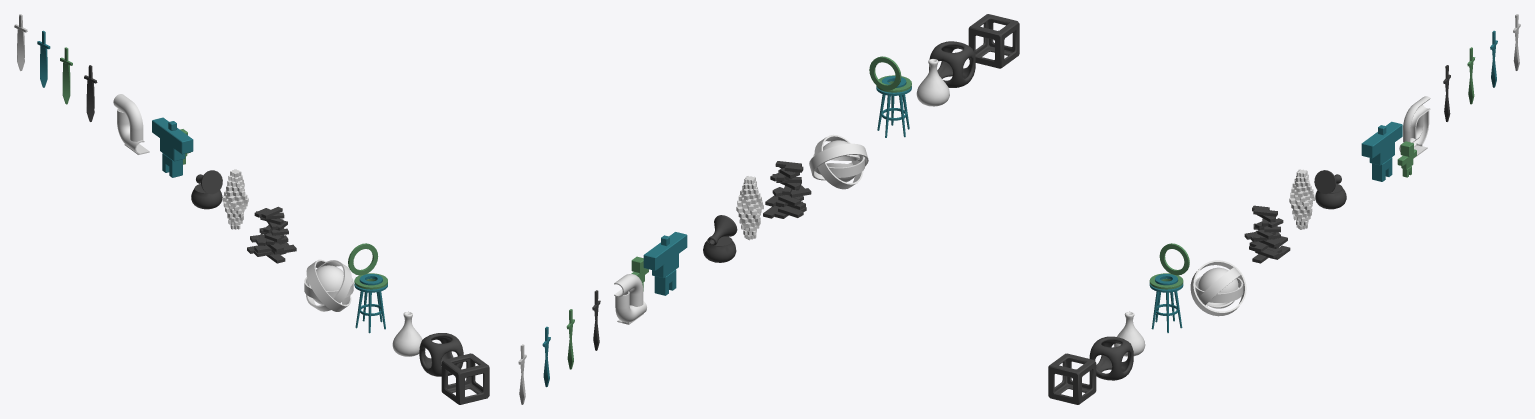
The picture shows the model from 3 angles, left to right: view 1: azimuth 30°, elevation 25°; view 2: azimuth 150°, elevation 25°; view 3: azimuth 330°, elevation 25°; orthographic projection. The views are drawn at different scales.
Visible parts, largest first — view 1: Sphere, Cube, chair_1, Cube_3, man_1, Cube_2, Cylinder_2, Cube_4, Cube_5, Cylinder, knife_2, knife_1; view 2: Sphere, Cube, man_1, Cube_3, chair_1, Cube_2, Cylinder_2, Cube_4, Cube_5, Cylinder; view 3: Sphere, man_1, Cube, Cube_3, chair_1, Cube_2, Cylinder_2, Cube_4, Cube_5, Cylinder.
Part boxes in pixels (bbox=[...]): Sphere: bbox=[304, 259, 353, 311]; Cube: bbox=[441, 353, 489, 404]; chair_1: bbox=[348, 243, 387, 333]; Cube_3: bbox=[247, 206, 296, 263]; man_1: bbox=[152, 117, 193, 177]; Cube_2: bbox=[419, 333, 463, 376]; Cylinder_2: bbox=[113, 94, 149, 154]; Cube_4: bbox=[222, 169, 248, 229]; Cube_5: bbox=[191, 170, 222, 209]; Cylinder: bbox=[392, 311, 422, 356]; knife_2: bbox=[60, 47, 72, 104]; knife_1: bbox=[84, 65, 97, 121]; Sphere: bbox=[809, 134, 868, 189]; Cube: bbox=[968, 14, 1019, 68]; man_1: bbox=[631, 232, 687, 295]; Cube_3: bbox=[763, 161, 811, 218]; chair_1: bbox=[869, 56, 911, 137]; Cube_2: bbox=[929, 41, 975, 87]; Cylinder_2: bbox=[614, 274, 646, 324]; Cube_4: bbox=[736, 176, 763, 240]; Cube_5: bbox=[703, 215, 737, 262]; Cylinder: bbox=[916, 59, 949, 106]; Sphere: bbox=[1190, 260, 1246, 316]; man_1: bbox=[1361, 121, 1416, 181]; Cube: bbox=[1048, 353, 1096, 404]; Cube_3: bbox=[1244, 205, 1290, 263]; chair_1: bbox=[1149, 243, 1189, 332]; Cube_2: bbox=[1089, 336, 1133, 380]; Cylinder_2: bbox=[1399, 96, 1430, 158]; Cube_4: bbox=[1289, 169, 1314, 229]; Cube_5: bbox=[1314, 170, 1346, 209]; Cylinder: bbox=[1114, 311, 1145, 356].
Size of the model in its own units: 0.4623 by 0.8644 by 7.66.
